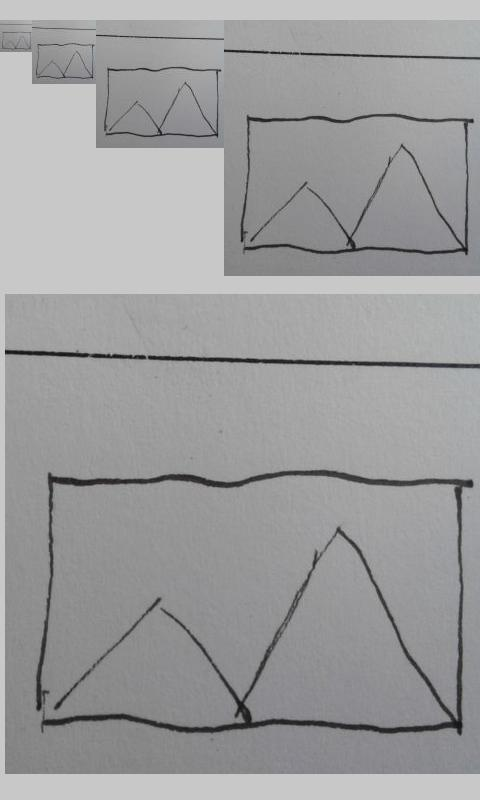image_view: (34, 468, 468, 737), (237, 109, 474, 261), (103, 65, 220, 138), (35, 43, 95, 79), (1, 31, 32, 50)
